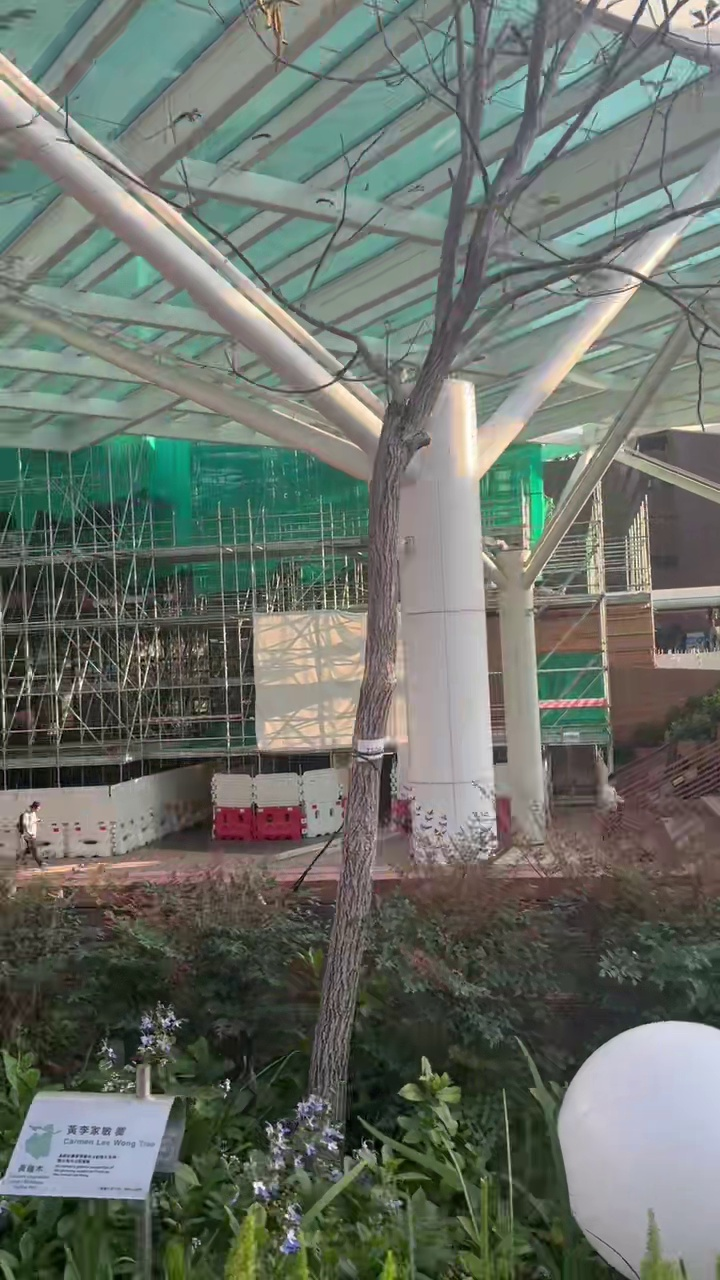Tabebuia chrysantha: (309, 0, 684, 1118)
